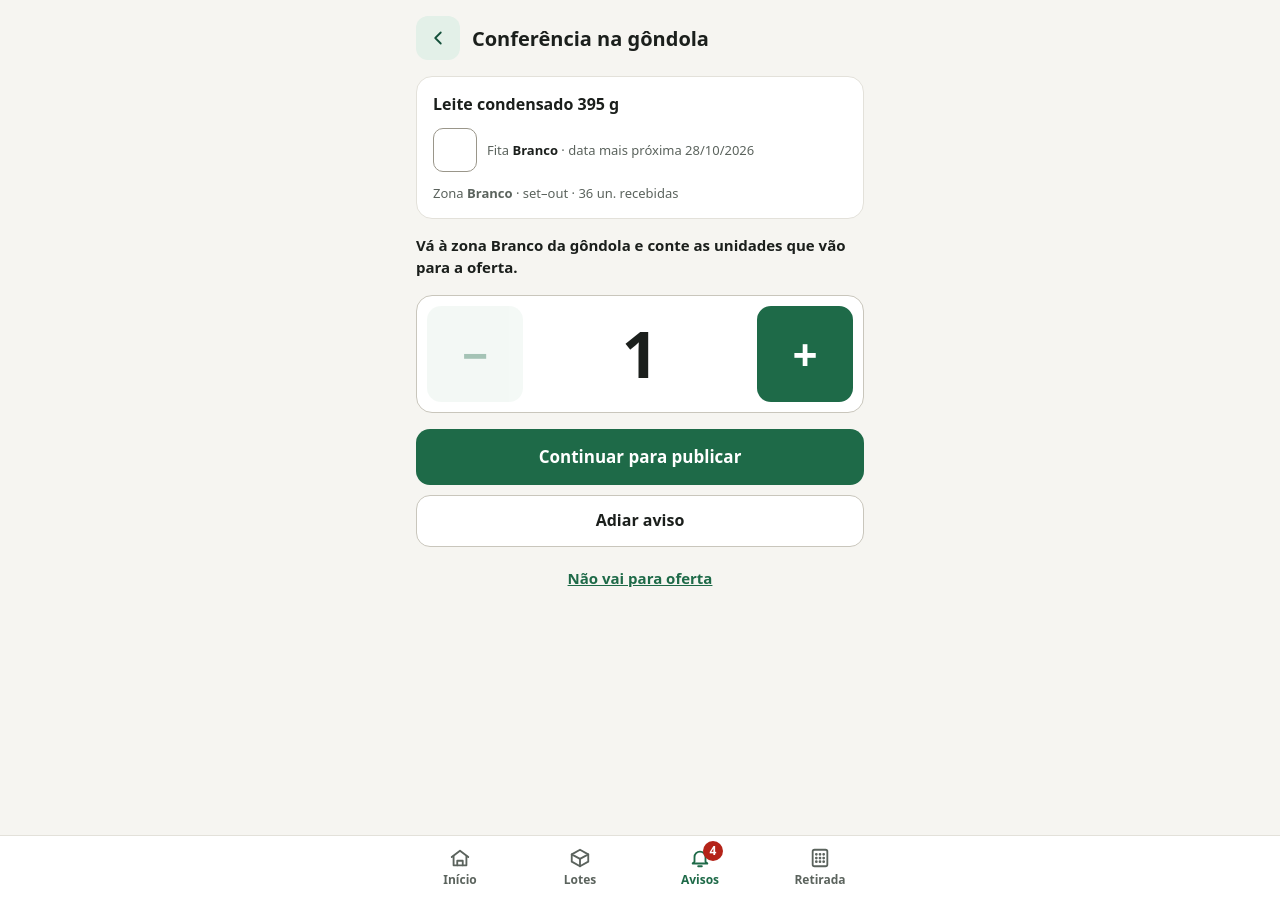
Test: L6 · Conferência na gôndola › "Não vai para oferta": escolhe o motivo e encerra o aviso sem oferta
This screenshot has width=1280, height=900.
Click the button "Não vai para oferta": (640, 579) [416,557,864,601]
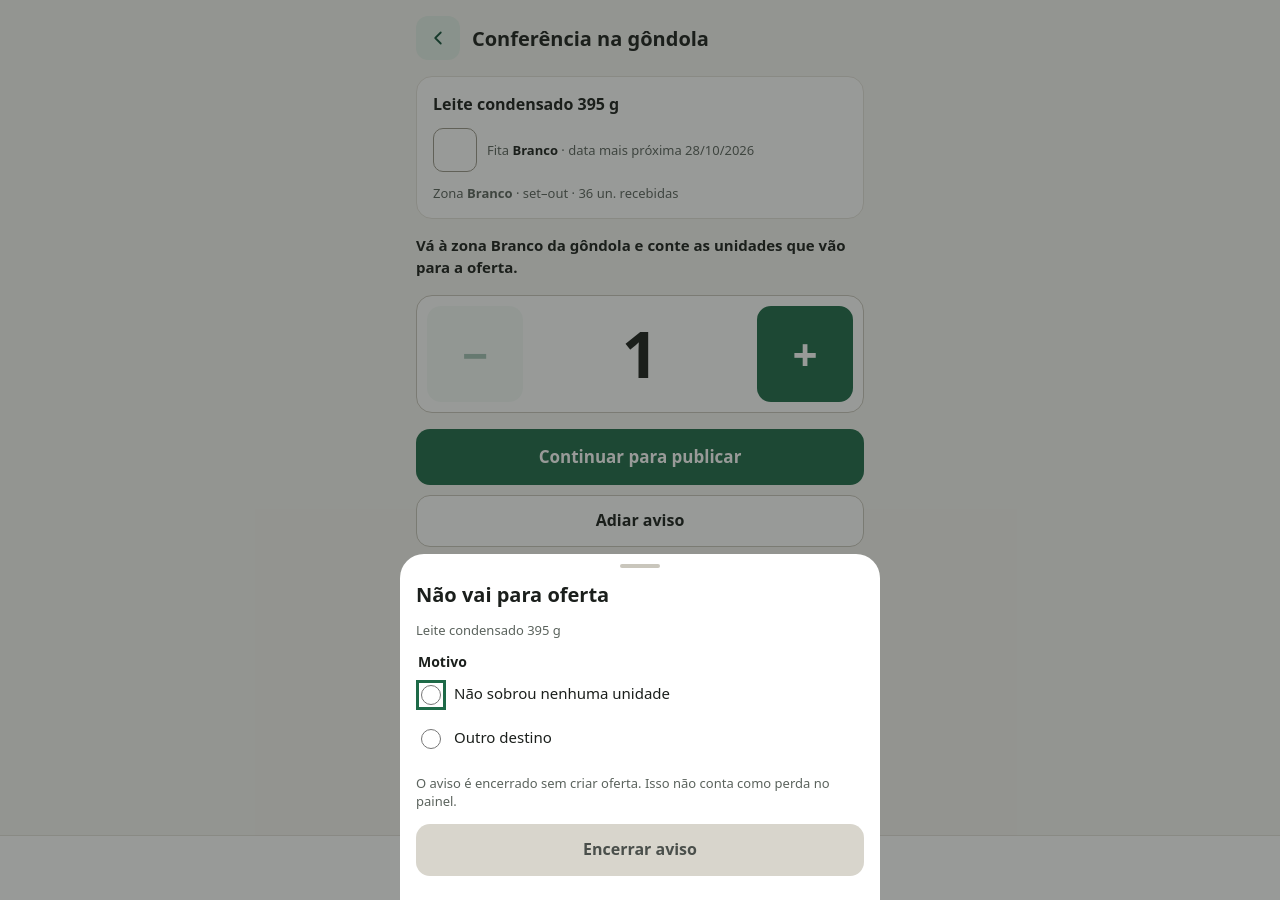
Check: the text "O aviso é encerrado sem criar oferta. Isso não conta como perda no painel." is shown, box [416,774,864,810]
Check: the button "Encerrar aviso" is disabled, box [416,824,864,876]
Click the radio button labelled "Não sobrou nenhuma unidade": (431, 695) [421,685,441,705]
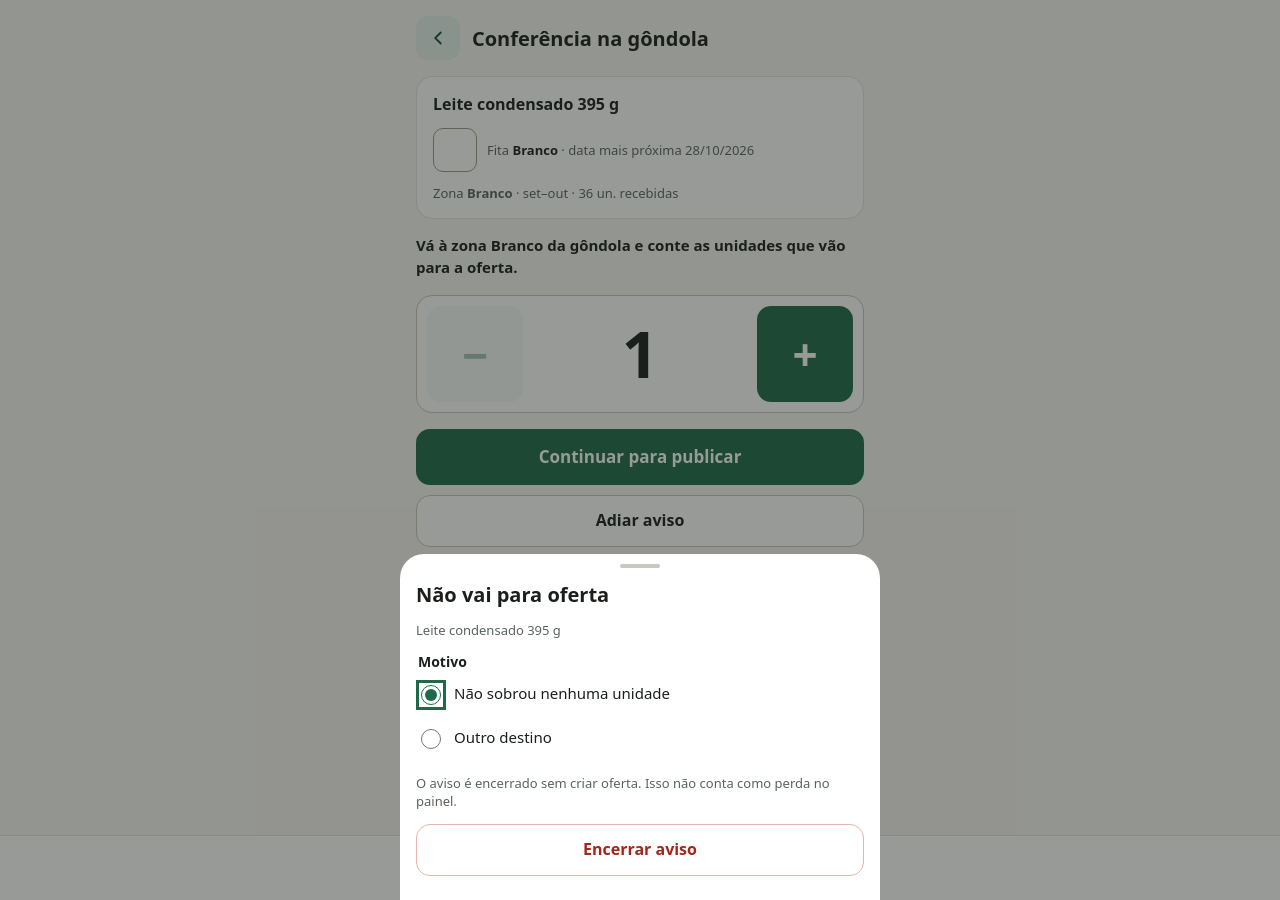
Click the button "Encerrar aviso": (640, 850) [416,824,864,876]
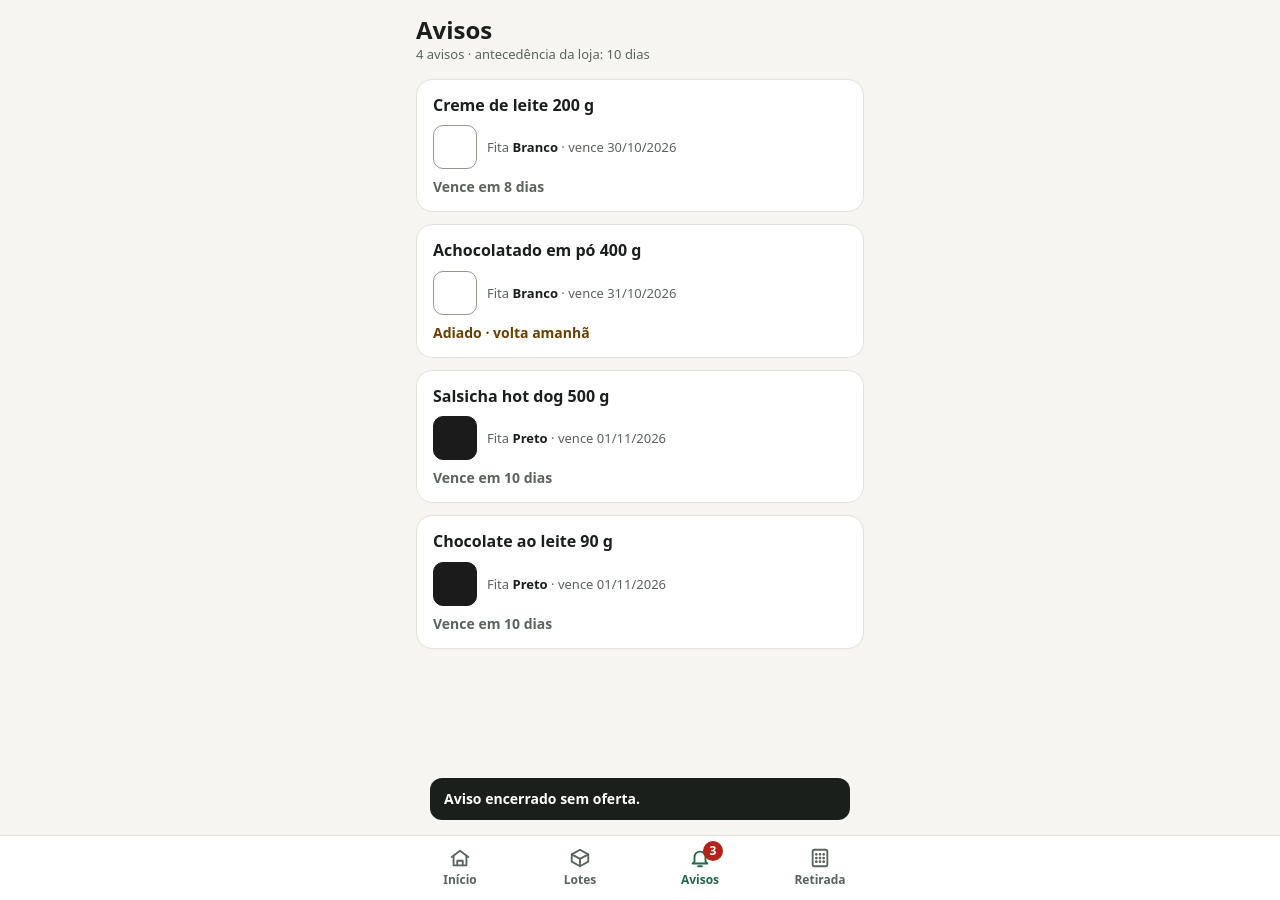
Check: the text "Aviso encerrado sem oferta." is shown, box [444,790,640,808]
Check: the text "4 avisos · antecedência da loja: 10 dias" is shown, box [416,45,650,63]
Check: the text "Leite condensado 395 g" is gone
